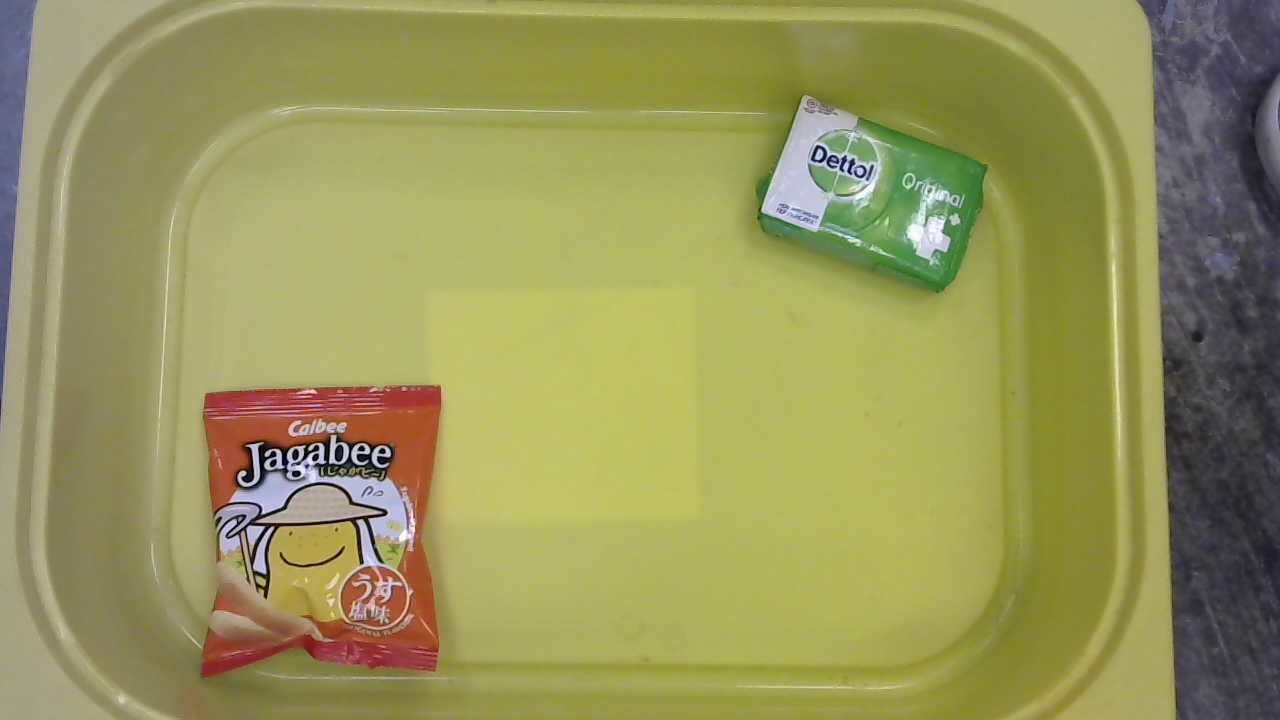Dettol: (751, 85, 994, 297)
JagabeeFarmer: (188, 382, 446, 676)
